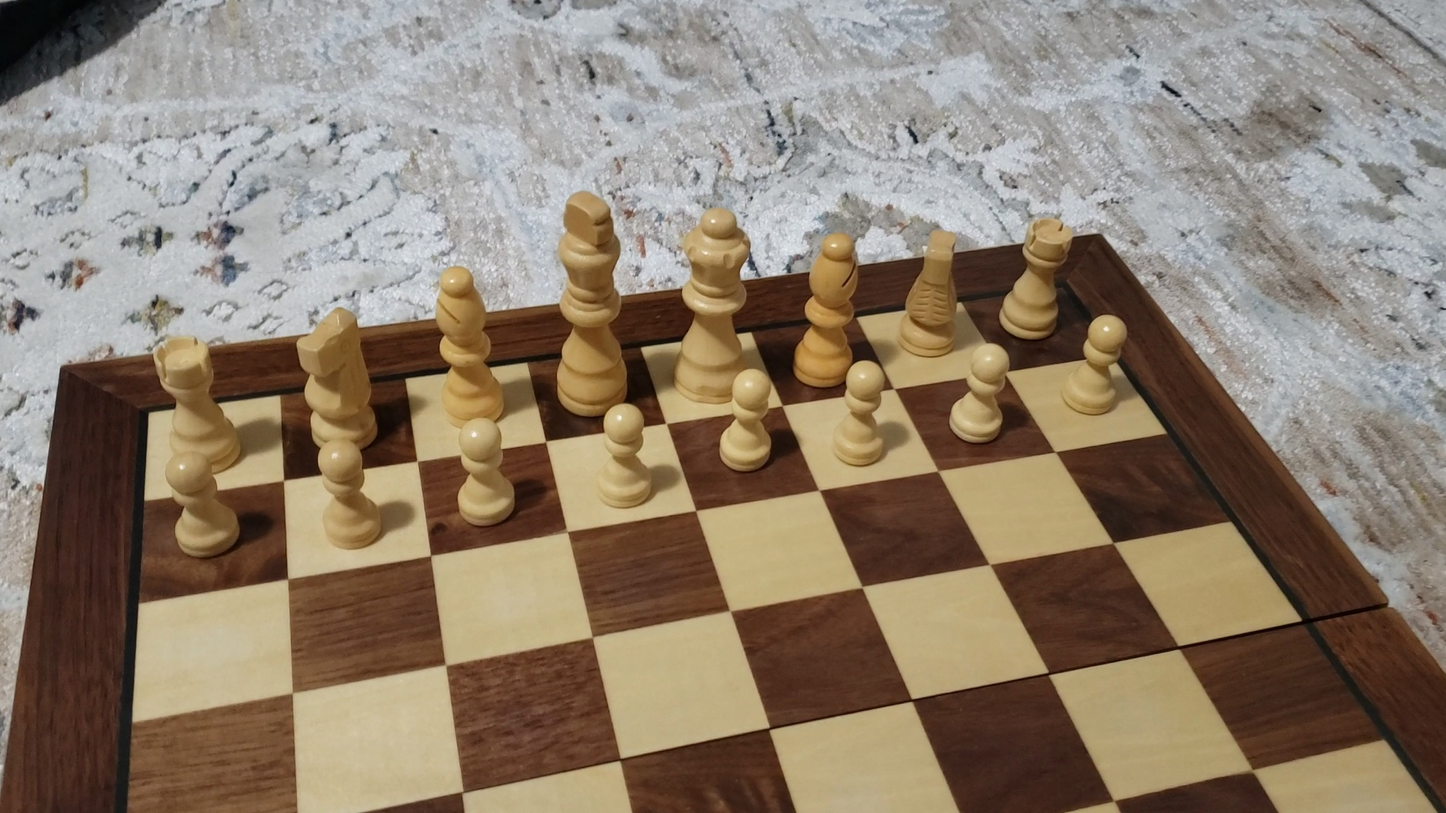white-bishop: (430, 260, 505, 429), (792, 228, 863, 391)
white-king: (551, 183, 629, 422)
white-knight: (279, 293, 394, 458), (896, 223, 964, 362)
white-pawn: (159, 448, 244, 564), (310, 436, 387, 556), (447, 414, 523, 532), (1056, 311, 1134, 420), (588, 399, 660, 514), (942, 340, 1016, 449), (826, 358, 895, 471), (712, 365, 781, 477)
white-queen: (676, 200, 748, 401)
white-rook: (149, 334, 245, 477), (994, 213, 1075, 344)
